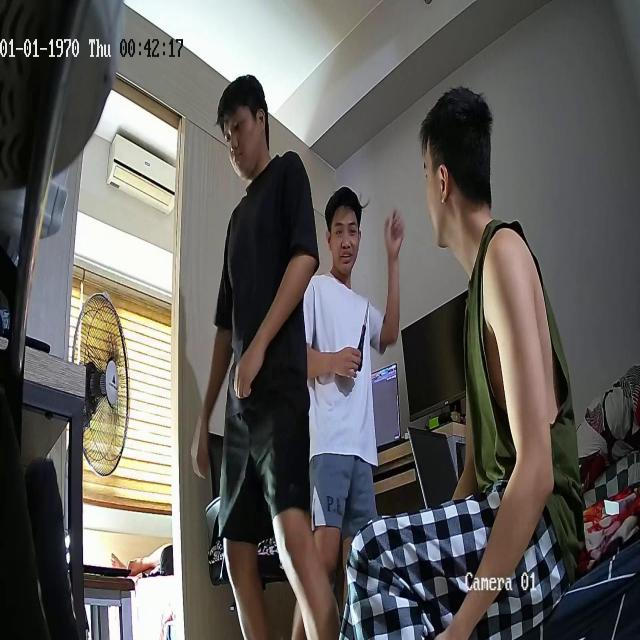scissor: (357, 300, 369, 372)
